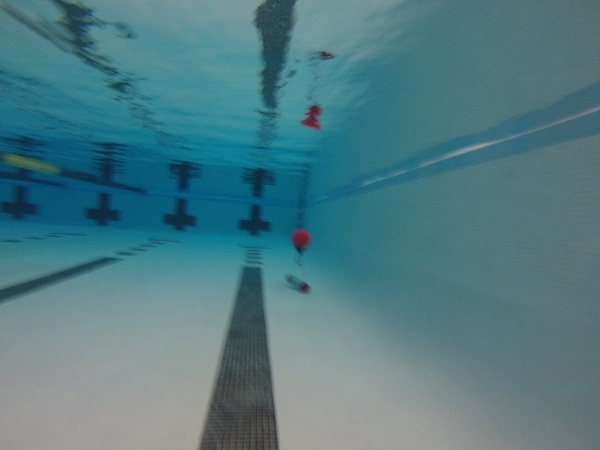buoy_red: (291, 229, 311, 256)
